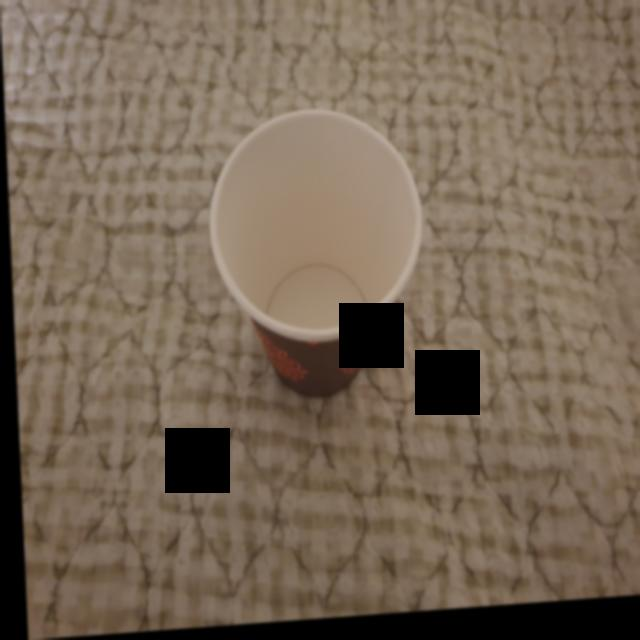cups: (201, 100, 431, 415)
